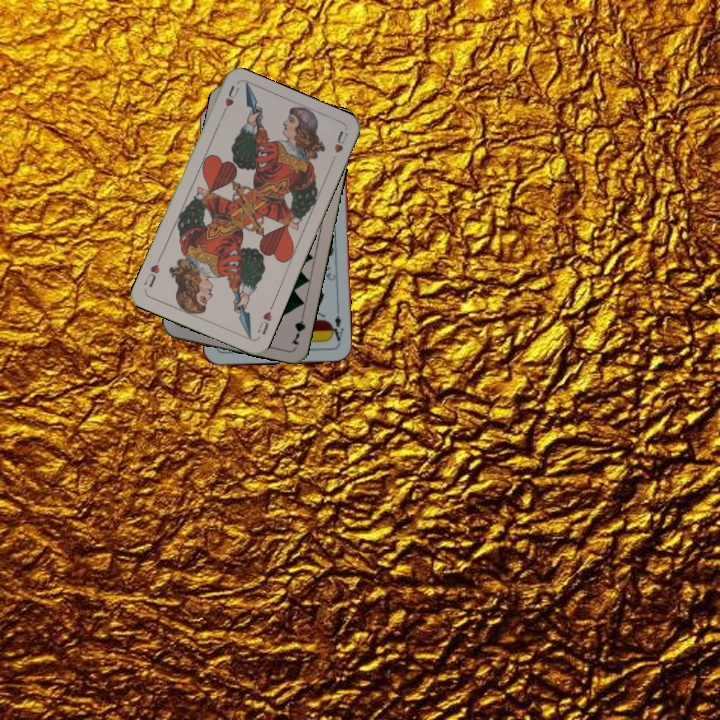EA: (327, 311, 346, 347)
G7: (287, 308, 308, 348)
HU: (217, 81, 242, 120), (253, 301, 276, 337)
